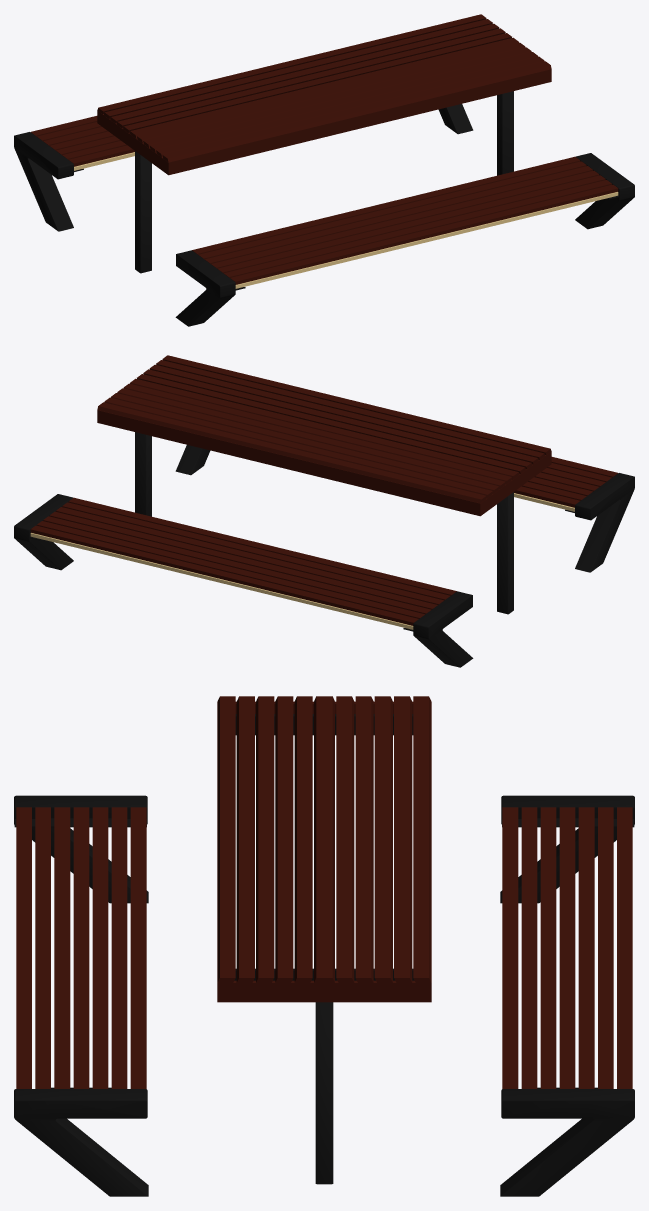
The picture shows the model from 3 angles, top to bottom: view 1: azimuth 30°, elevation 25°; view 2: azimuth 150°, elevation 25°; view 3: azimuth 270°, elevation 25°; orthographic projection. The views are drawn at different scales.
Visible parts, largest first — view 1: Object_3, Object_4, Object_2; view 2: Object_3, Object_4, Object_2; view 3: Object_3, Object_4.
Boxes of the visible parts, <box> form: Object_3: <box>31,14,618,284</box>; Object_4: <box>14,91,634,326</box>; Object_2: <box>74,152,618,288</box>; Object_3: <box>30,355,617,625</box>; Object_4: <box>14,432,634,667</box>; Object_2: <box>30,493,574,629</box>; Object_3: <box>16,696,632,1088</box>; Object_4: <box>14,714,634,1196</box>.
Size of the model in its own units: 2.15 by 0.6886 by 1.85.
